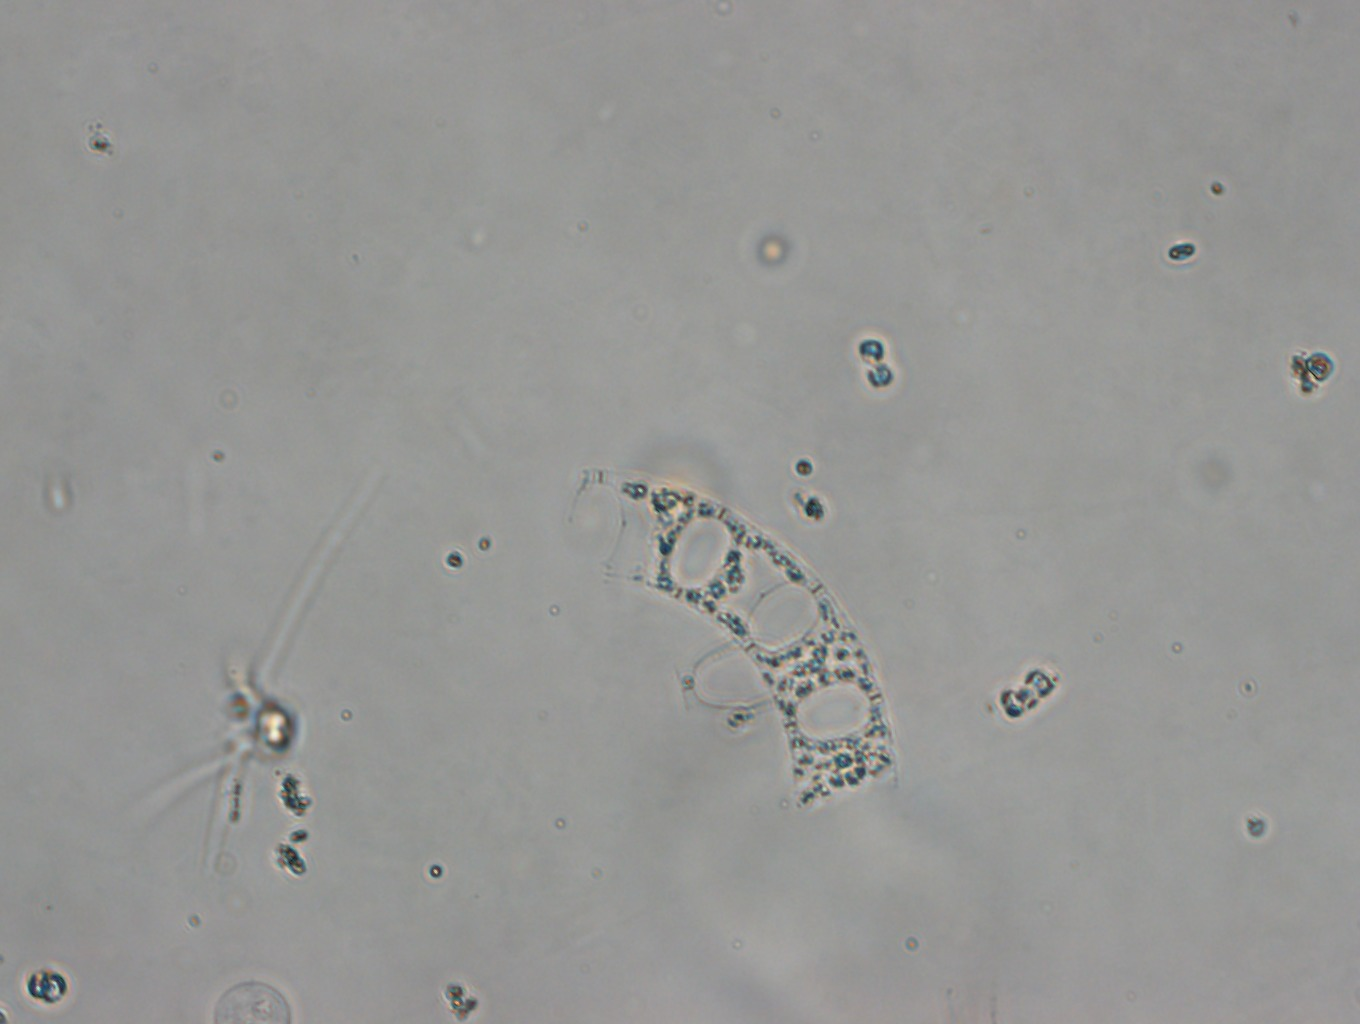eucampia: (556, 461, 896, 817)
